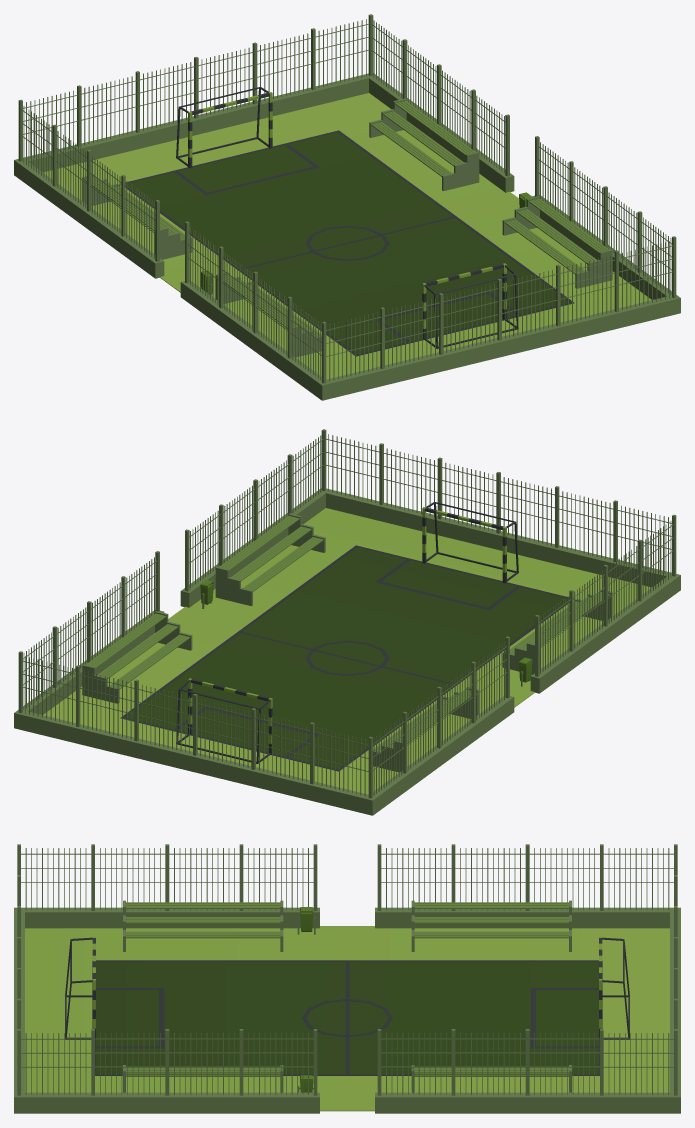
File: FootballPlayground_01.fbx
The picture shows the model from 3 angles, top to bottom: view 1: azimuth 30°, elevation 25°; view 2: azimuth 150°, elevation 25°; view 3: azimuth 270°, elevation 25°; orthographic projection. The views are drawn at different scales.
Visible parts, largest first — view 1: FootballPlayground_01; view 2: FootballPlayground_01; view 3: FootballPlayground_01.
Boxes of the visible parts, x1,y1,x2,y2 form: FootballPlayground_01: (14, 14, 680, 400); FootballPlayground_01: (14, 429, 680, 815); FootballPlayground_01: (14, 844, 680, 1113).
Bounding box in the file's own units: 12.3 × 2.47 × 18.3.
